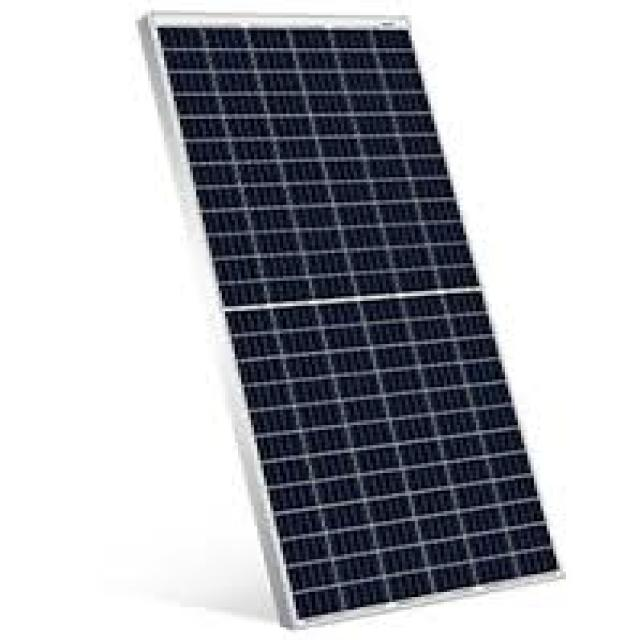Solar: (136, 12, 572, 614)
